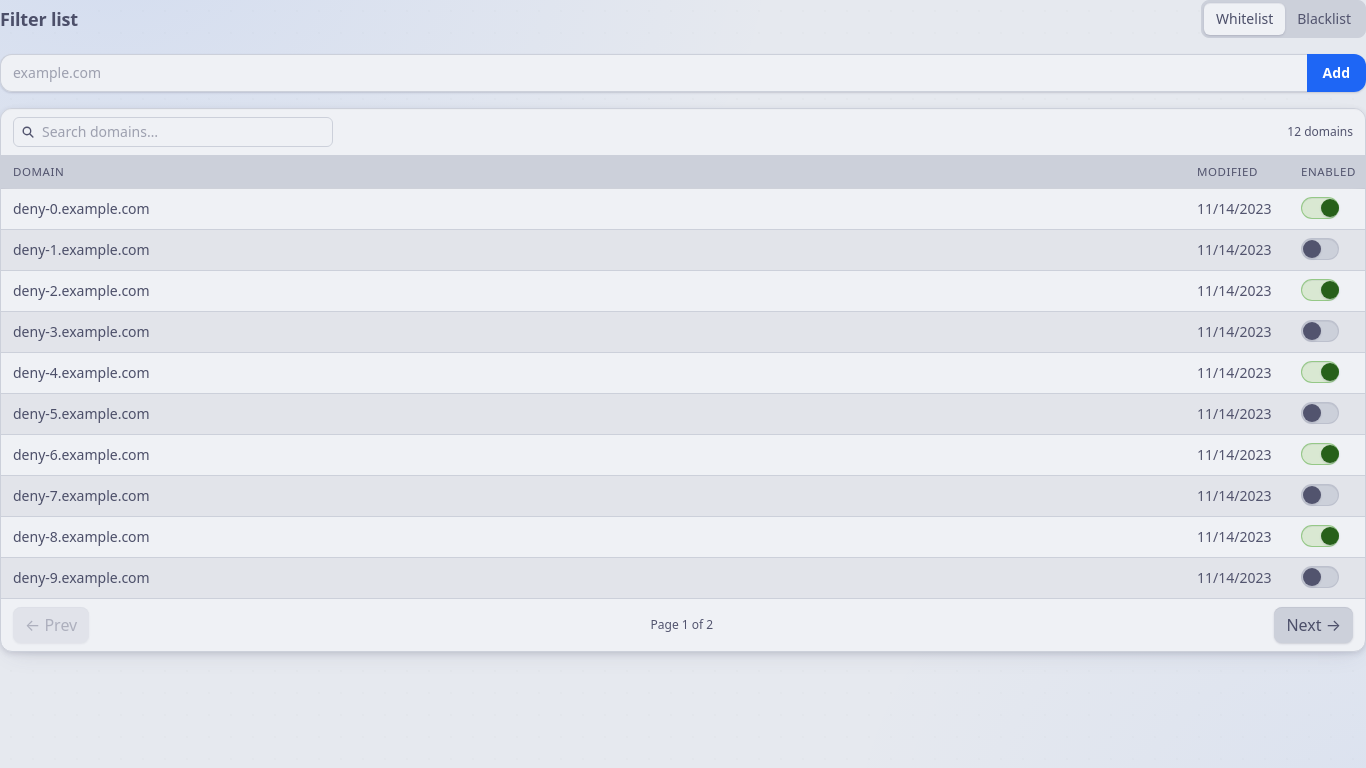
Scenario: Filterlist page › filters domains with the search box
Expected: the text "deny-0.example.com" is shown, [1, 189, 1185, 230]
Type "deny-3" into the search field labelled "Search domains" at (173, 132), box [13, 117, 333, 147]
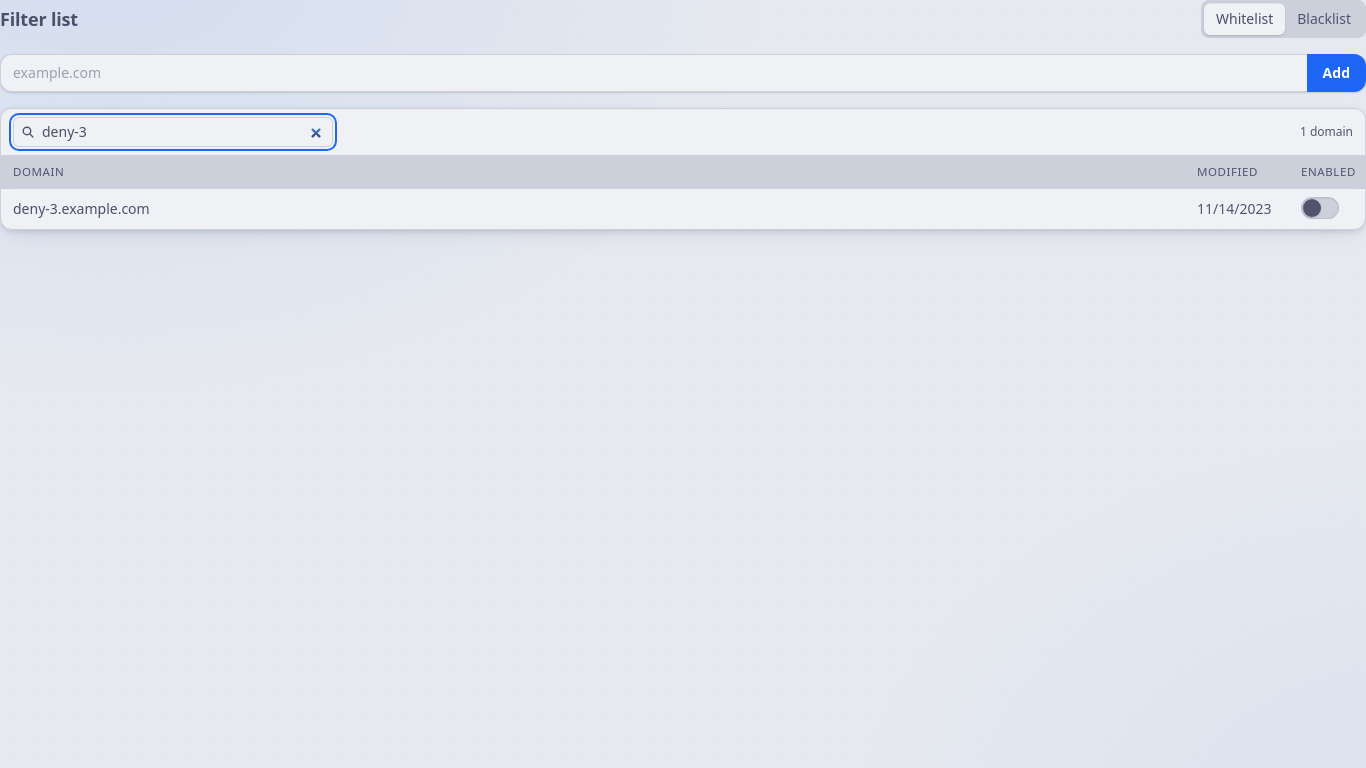
Expected: the text "deny-3.example.com" is shown, [1, 189, 1185, 229]
Expected: the text "deny-0.example.com" is gone
Expected: the text "1 domain" is shown, [1300, 124, 1353, 140]
